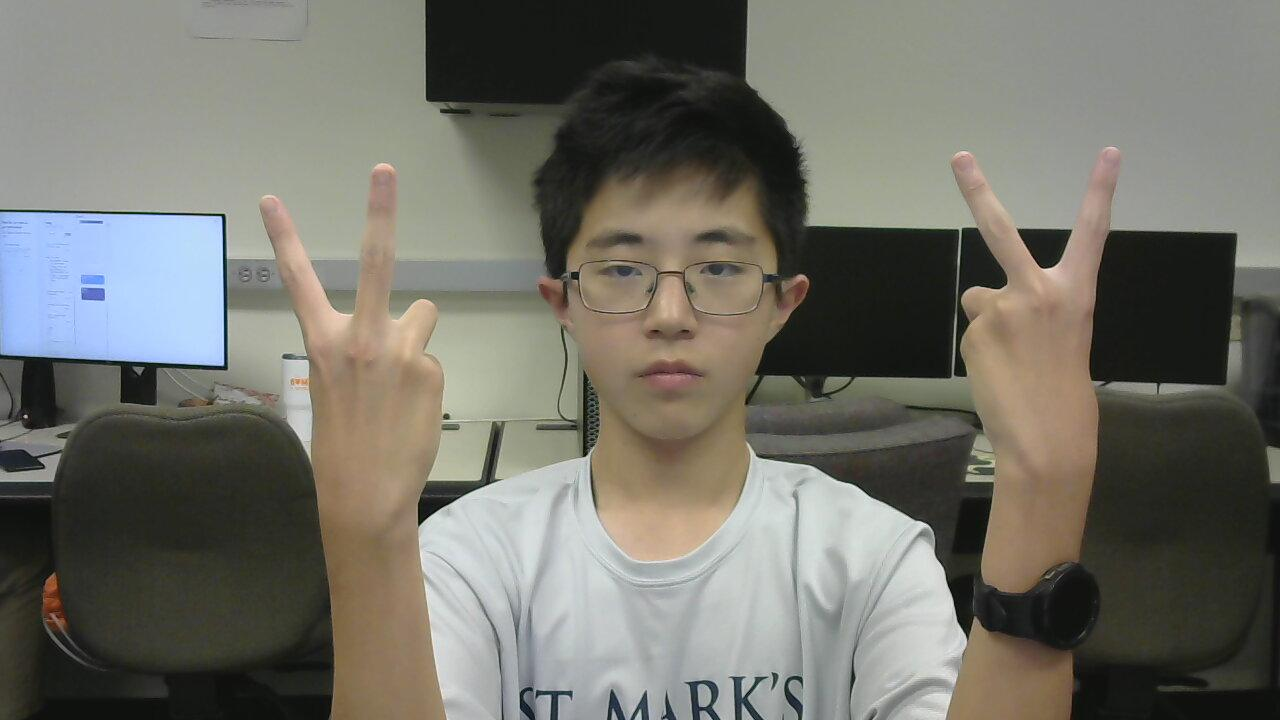peace: (238, 147, 472, 546), (923, 132, 1127, 481)
